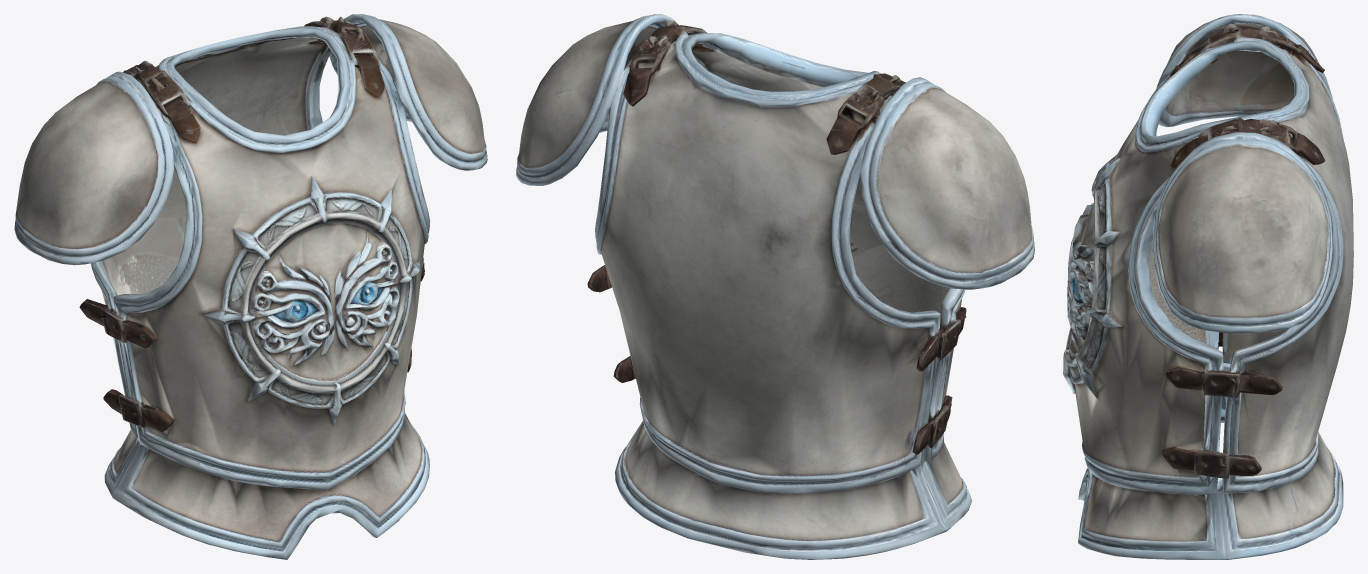
Rendered from corazza_prima_veglia.glb.
3 renders of one model, left to right at view 1: azimuth 30°, elevation 25°; view 2: azimuth 150°, elevation 25°; view 3: azimuth 270°, elevation 25°, orthographic. The views are drawn at different scales.
Parts seen in each view (by area): view 1: Mesh_0; view 2: Mesh_0; view 3: Mesh_0.
Boxes of the visible parts, box(x1,y1,x2,y2) form: Mesh_0: box(14, 14, 487, 559); Mesh_0: box(516, 14, 1034, 559); Mesh_0: box(1063, 14, 1353, 559).
Bounding box in the file's own units: 1.9 × 1.8 × 1.06.
Materials: 1 (1 with a texture image).
